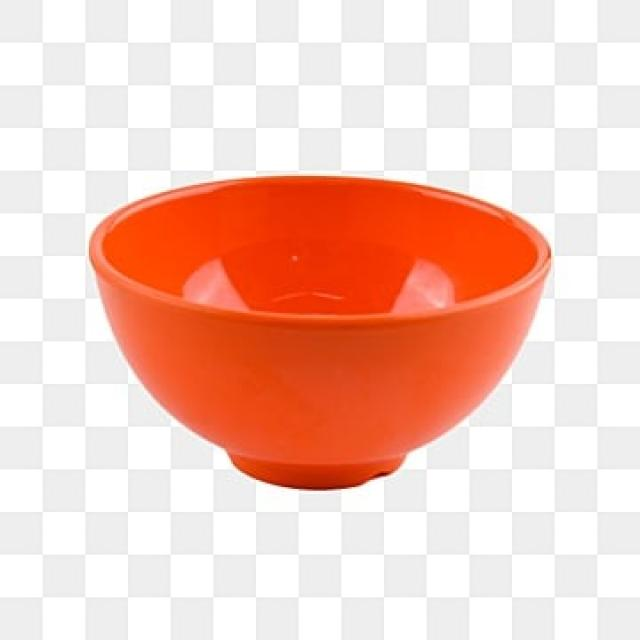Mangkok: (83, 179, 551, 501)
